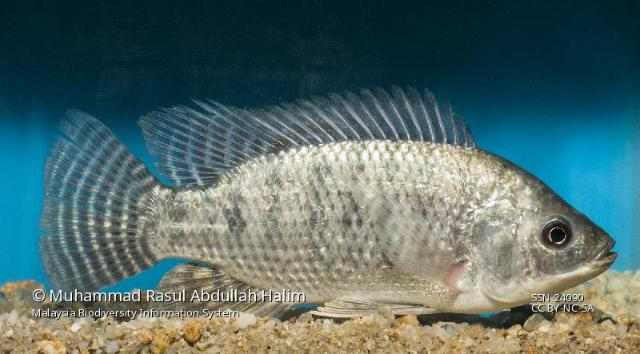Mulut: (559, 220, 633, 284)
Sirip Anal: (144, 257, 296, 331)
Sirip Dada: (322, 166, 478, 296)
Sirip Ekor: (30, 101, 156, 322)
Sirip Perut: (299, 285, 439, 341)
Sirip Punggung: (140, 78, 484, 196)
